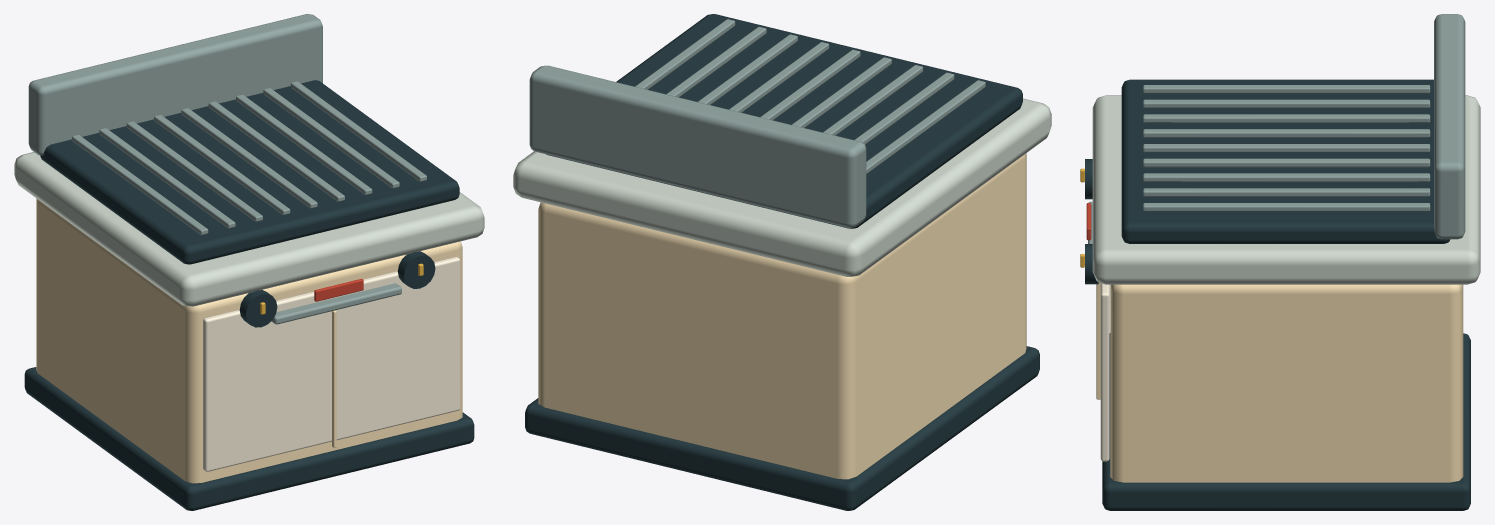
Rendered from griddle.glb.
3 renders of one model, left to right at view 1: azimuth 30°, elevation 25°; view 2: azimuth 150°, elevation 25°; view 3: azimuth 270°, elevation 25°, orthographic. The views are drawn at different scales.
Parts seen in each view (by area): view 1: griddle; view 2: griddle; view 3: griddle.
Boxes of the visible parts, x1=… form: griddle: x1=14, y1=14, x2=484, y2=510; griddle: x1=513, y1=14, x2=1051, y2=510; griddle: x1=1080, y1=14, x2=1480, y2=510.
Bounding box in the file's own units: 1 × 0.99 × 1.03.
